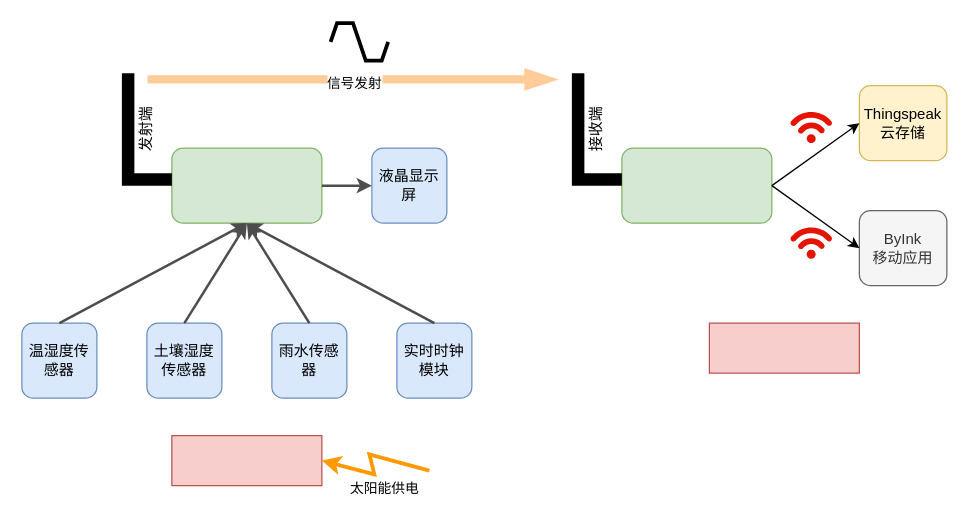
Some shapes in this 969 by 519 pixel diagram are drawn without their labels. Here are the shapes that lost their labels. From the top down, the centre of each, then its label:
point 246,185: Arduino UNO R3板块接LoRa设备
point 696,185: ESP32板块接LoRa设备
point 783,347: 接收节点
point 246,460: 发送节点
